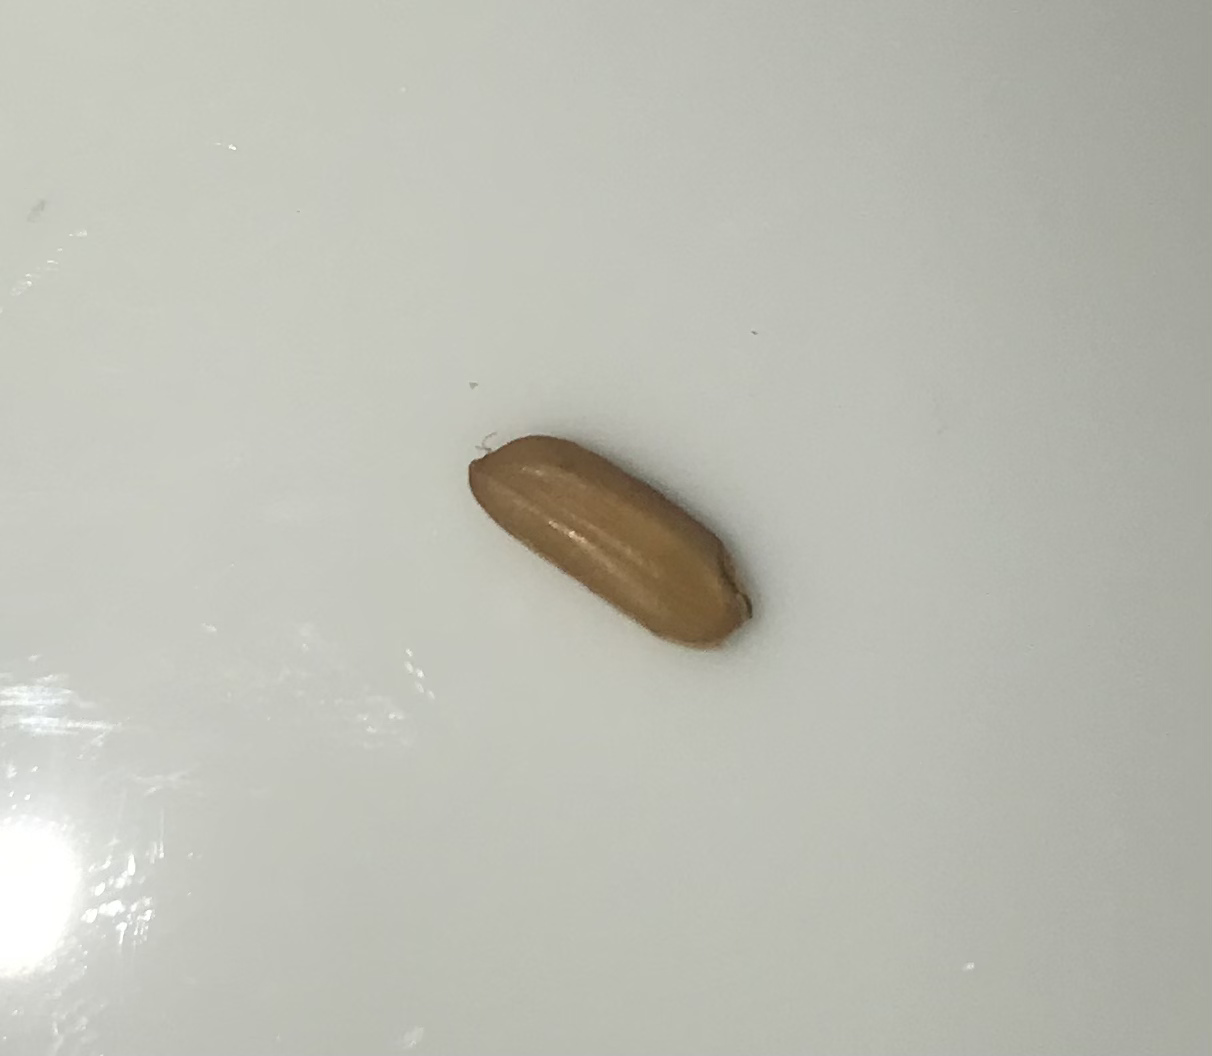Gao Lut Dien Bien: (453, 420, 766, 659)
